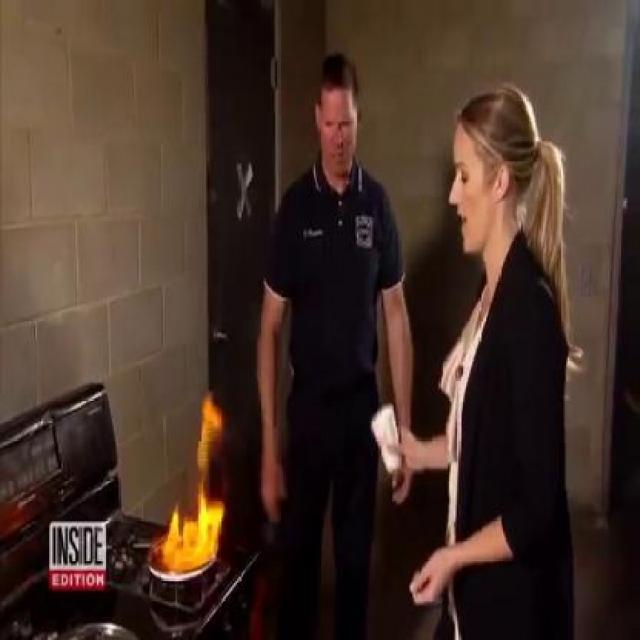fire: (150, 406, 242, 580)
